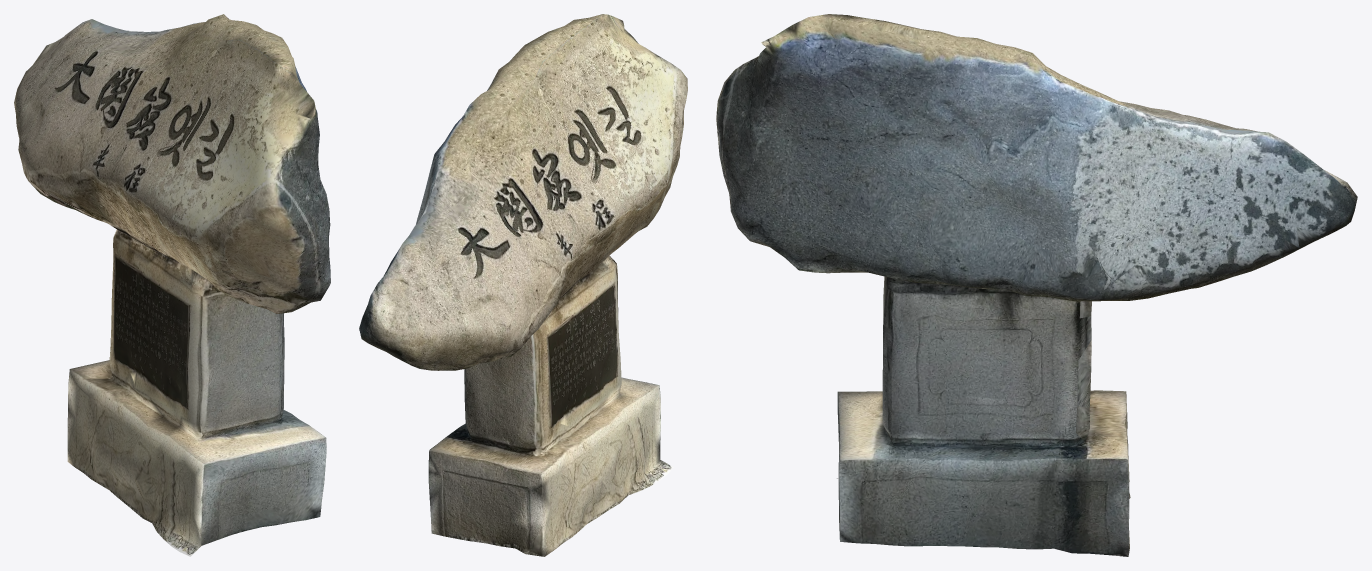
File: marker.glb
3 renders of one model, left to right at view 1: azimuth 30°, elevation 25°; view 2: azimuth 150°, elevation 25°; view 3: azimuth 270°, elevation 25°, orthographic. The views are drawn at different scales.
Visible parts, largest first — view 1: OldRoad_LowPoly_Default OBJ_0; view 2: OldRoad_LowPoly_Default OBJ_0; view 3: OldRoad_LowPoly_Default OBJ_0.
Part boxes in pixels (x1=…): OldRoad_LowPoly_Default OBJ_0: x1=14, y1=14, x2=330, y2=556; OldRoad_LowPoly_Default OBJ_0: x1=359, y1=14, x2=687, y2=556; OldRoad_LowPoly_Default OBJ_0: x1=716, y1=14, x2=1357, y2=556.
Size of the model in its own units: 0.9871 by 2.51 by 2.81.
1 material, 1 textured.
